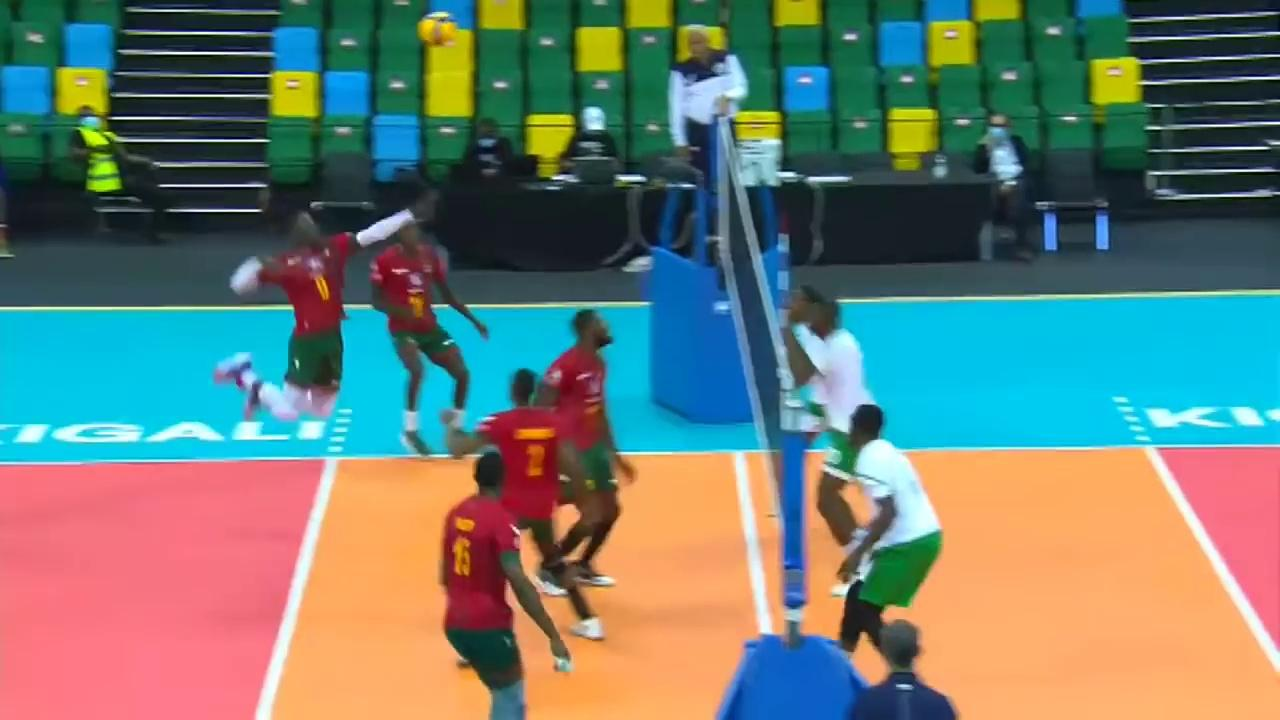player: (212, 196, 437, 419), (444, 364, 603, 642), (435, 452, 580, 719), (818, 405, 948, 696), (371, 213, 492, 450), (543, 306, 636, 591), (796, 304, 876, 592), (776, 283, 863, 541)
refree: (666, 28, 747, 231), (841, 620, 959, 720)
